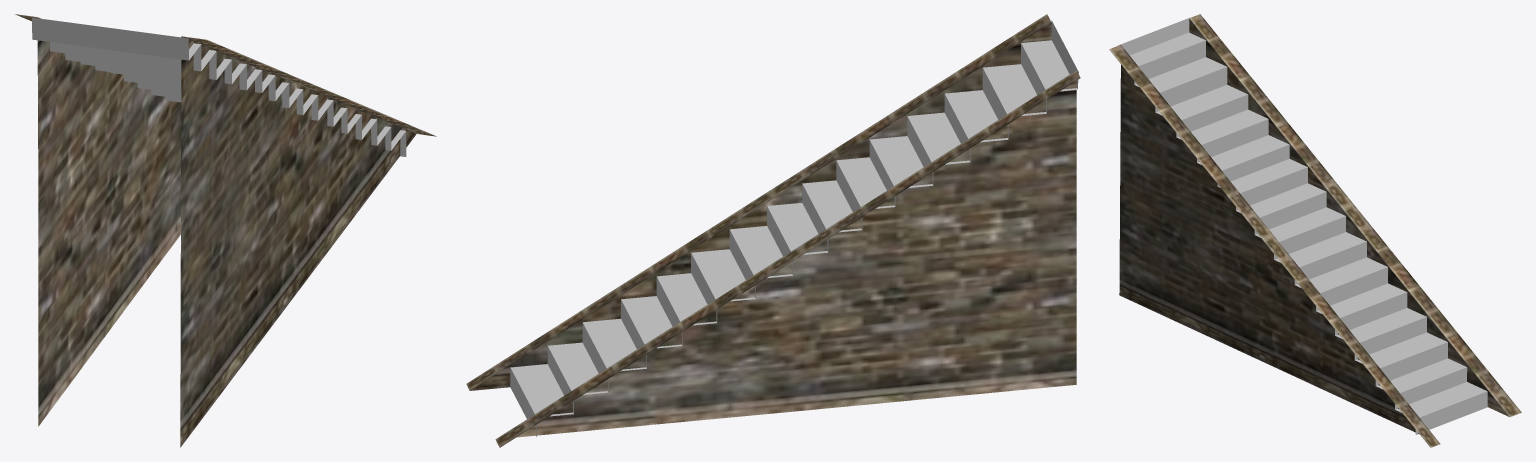
File: tizi.obj
3 renders of one model, left to right at view 1: azimuth 30°, elevation 25°; view 2: azimuth 150°, elevation 25°; view 3: azimuth 270°, elevation 25°, orthographic. The views are drawn at different scales.
Visible parts, largest first — view 1: tizi; view 2: tizi; view 3: tizi.
Part boxes in pixels (x1=…): tizi: x1=15, y1=14, x2=436, y2=447; tizi: x1=466, y1=14, x2=1080, y2=447; tizi: x1=1109, y1=14, x2=1521, y2=447.
Size of the model in its own units: 156 by 100 by 149.
